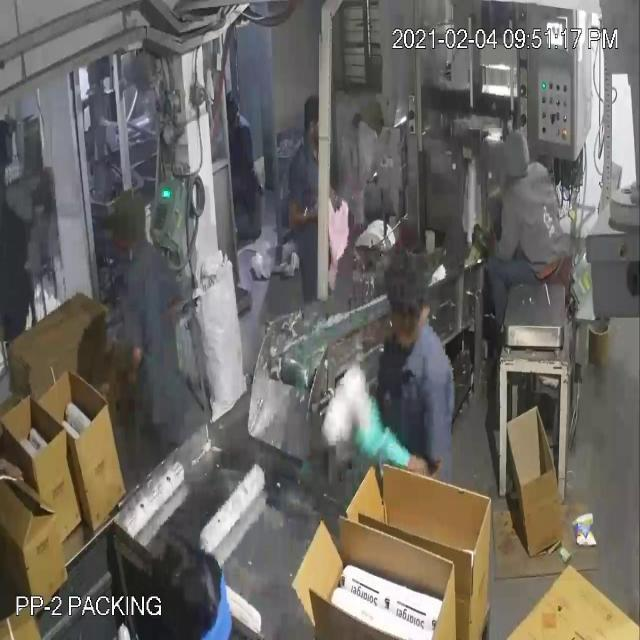Gloves: (46, 44, 380, 430)
